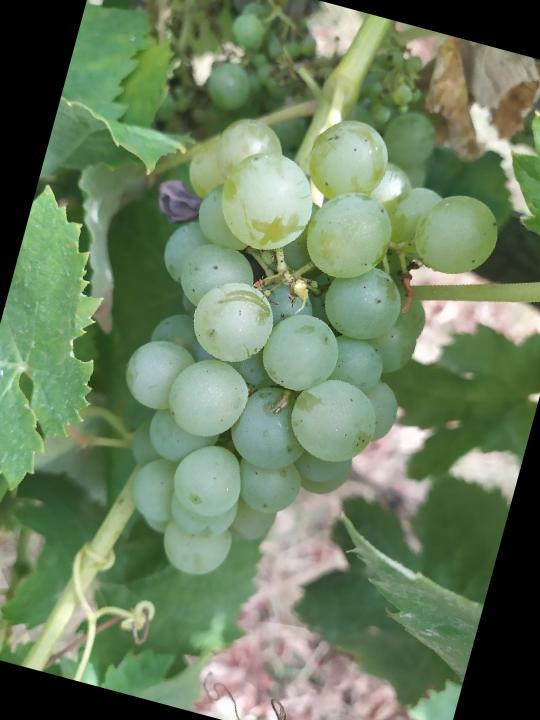grape: (74, 75, 522, 633)
